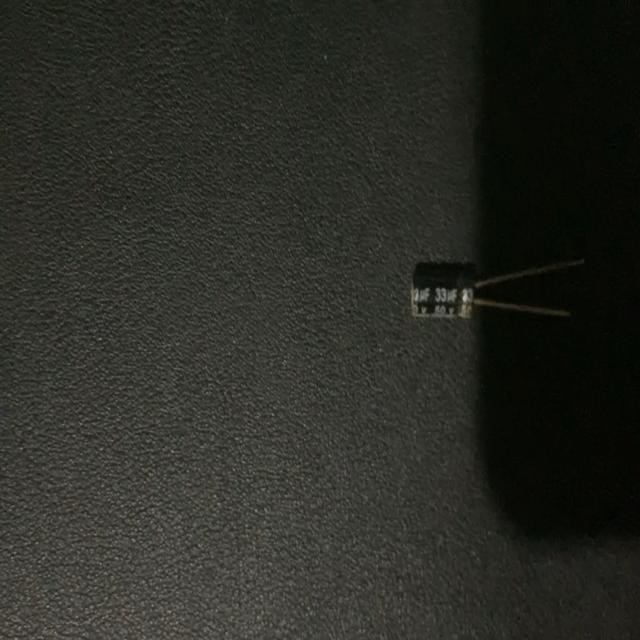capacitor: (410, 250, 588, 330)
